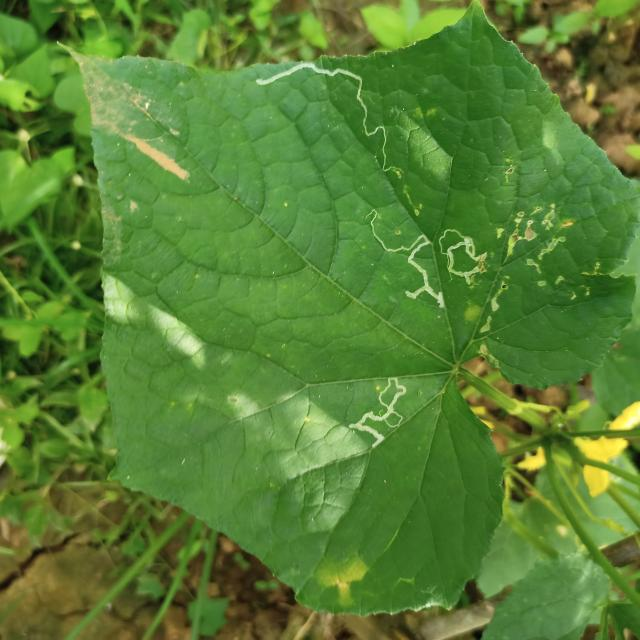disease_cucumber: (315, 554, 370, 612)
